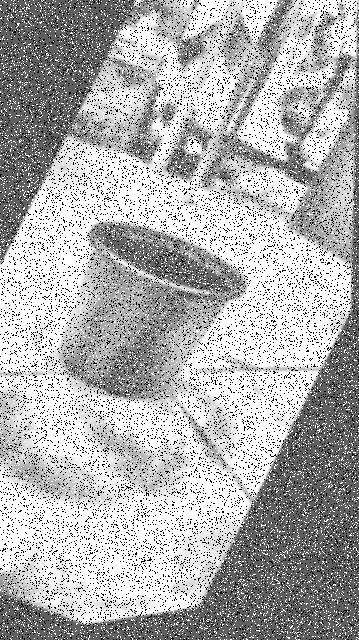pot: (58, 221, 245, 398)
